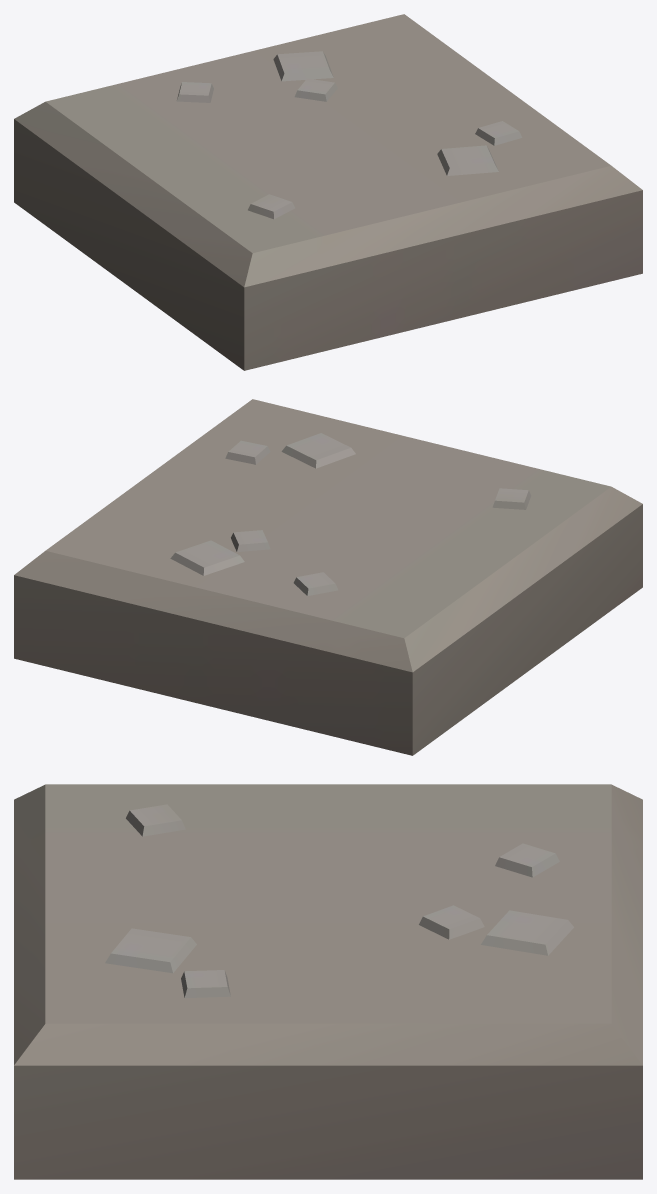
Rendered from floor_dirt_small.glb.
3 renders of one model, top to bottom at view 1: azimuth 30°, elevation 25°; view 2: azimuth 150°, elevation 25°; view 3: azimuth 270°, elevation 25°, orthographic. The views are drawn at different scales.
Parts seen in each view (by area): view 1: floor_dirt_small; view 2: floor_dirt_small; view 3: floor_dirt_small.
Part boxes in pixels (bbox=[...]): floor_dirt_small: bbox=[14, 14, 642, 370]; floor_dirt_small: bbox=[14, 399, 642, 755]; floor_dirt_small: bbox=[14, 784, 642, 1179].
Bounding box in the file's own units: 2 × 0.5301 × 2.
Materials: 1 (1 with a texture image).
